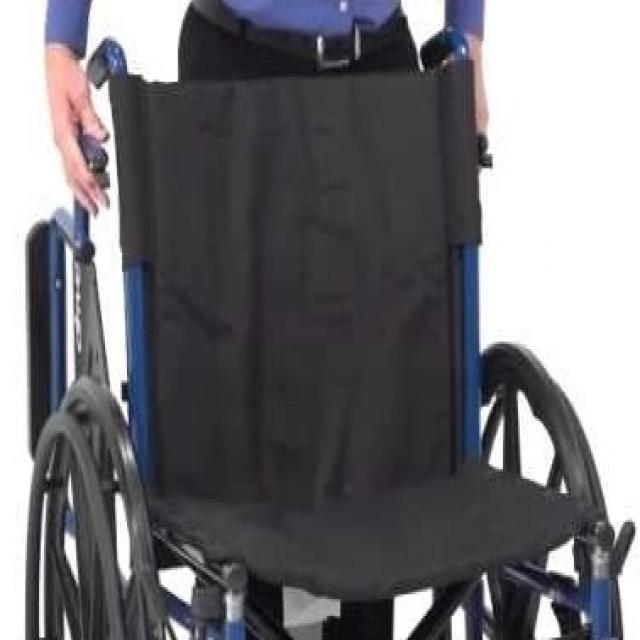wheelchair: (16, 28, 637, 640)
